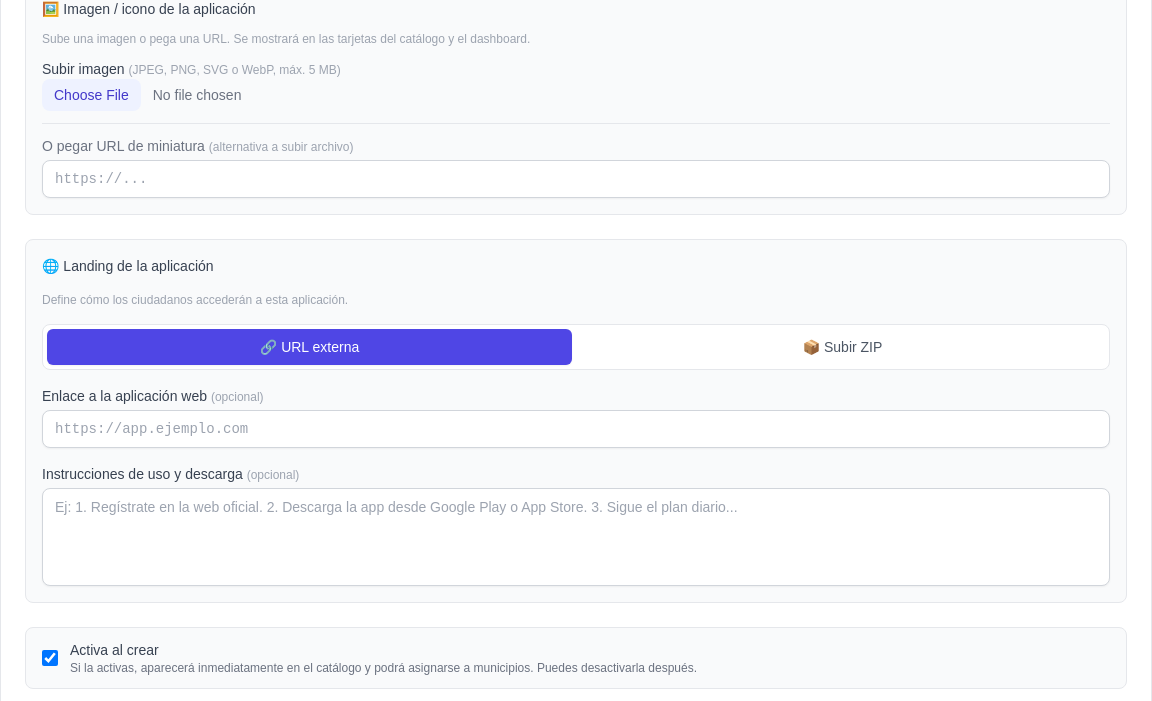
CreateApplicationForm — auto-switch de tipo al cambiar el modo de landing › cambiar manualmente el tipo después del auto-switch limpia la nota
The image size is (1152, 701).
(page scrolled)
Dispara el auto-switch pulsando 'URL externa' (default programa → herramienta)
Step 1. Click the button "🔗 URL externa" → (310, 347), box [47,329,572,365]
(page scrolled)
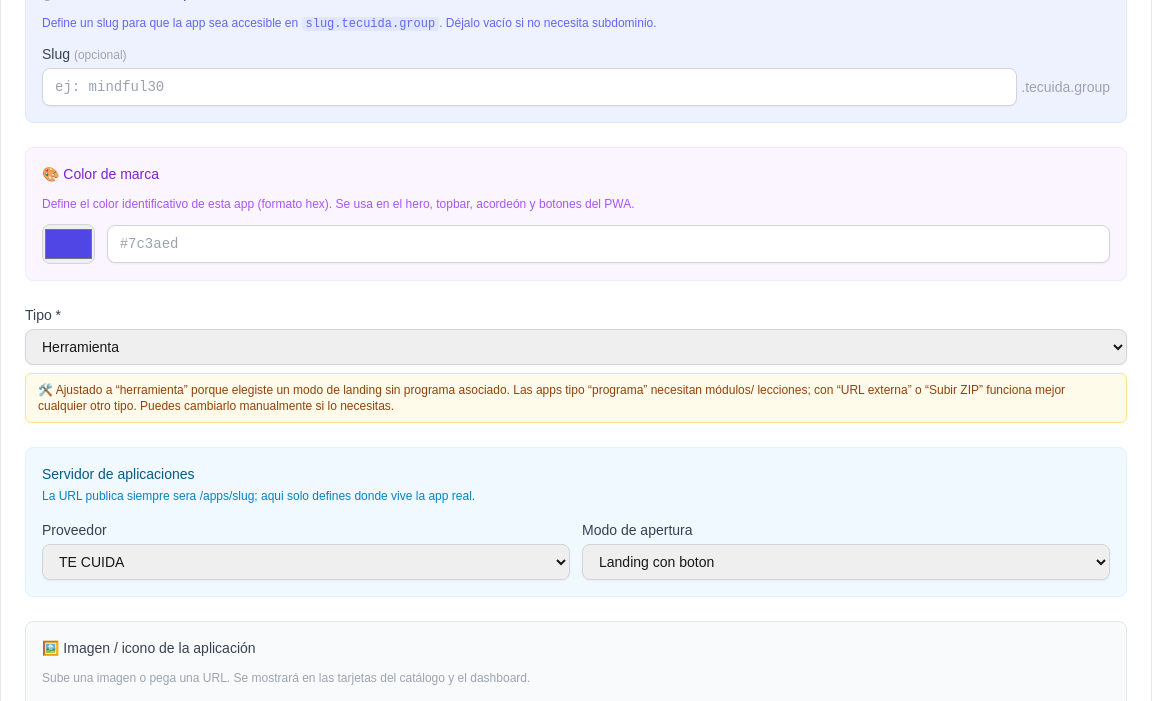
Check: the dropdown labelled "Tipo *" shows "Herramienta"
Check: the message is shown, box [25,373,1127,423]
El admin decide usar 'encuesta' en lugar del tipo auto-asignado
Step 2. Select "Encuesta" in the dropdown labelled "Tipo *" → (576, 347), box [25,329,1127,365]
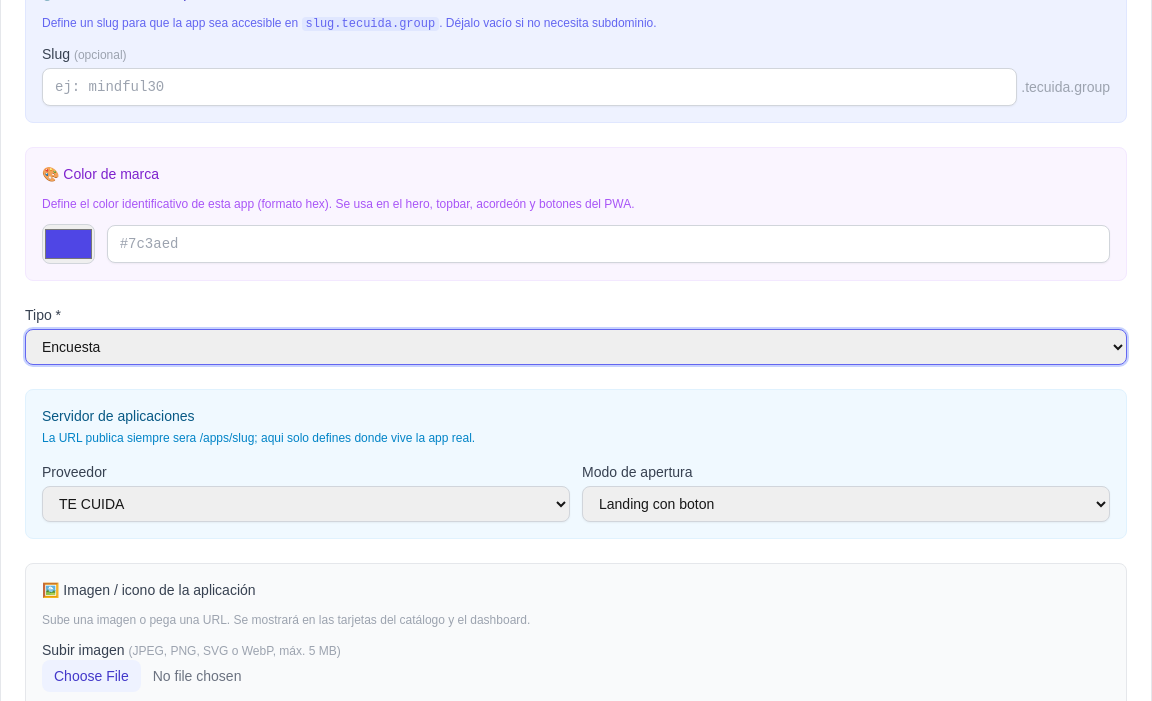
Check: the message "🛠️ Ajustado a “herramienta” porque elegiste un modo de landing sin programa aso" is gone
